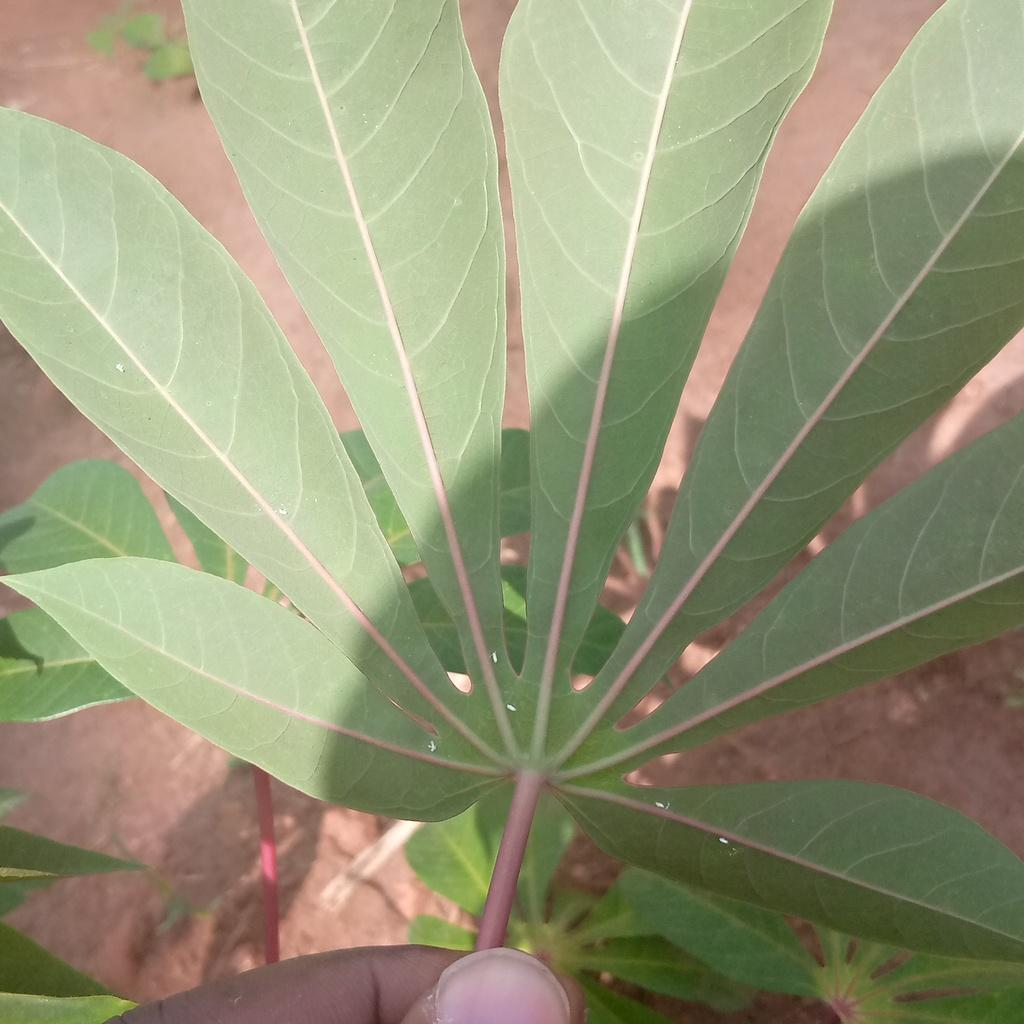adult: (427, 740, 436, 752), (277, 507, 288, 516), (506, 703, 517, 712), (115, 363, 125, 372), (491, 651, 498, 663), (719, 837, 729, 844), (654, 801, 664, 808)
